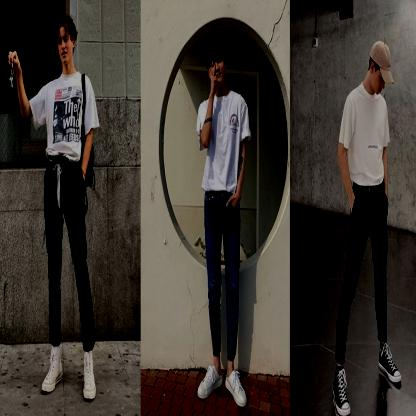dress: (330, 184, 390, 365), (44, 156, 96, 357), (204, 187, 246, 367), (28, 69, 102, 171), (339, 77, 392, 195), (196, 86, 252, 197)
jean: (7, 16, 100, 402), (332, 40, 401, 416), (195, 34, 248, 409)
